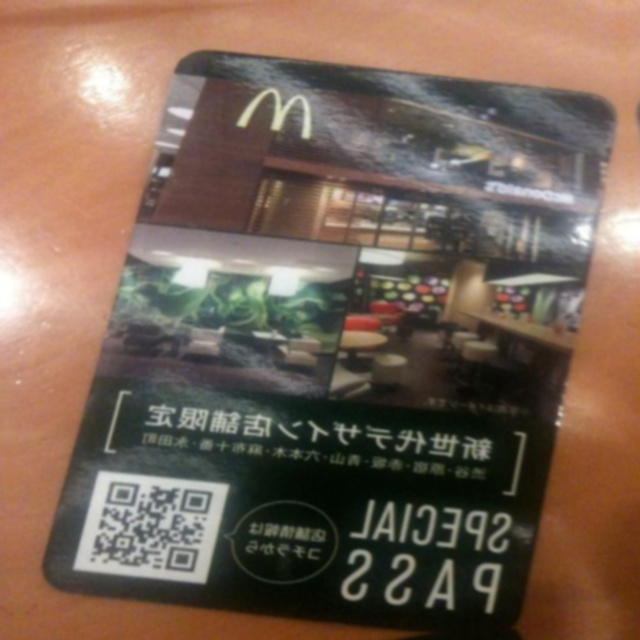qr-code: (84, 473, 219, 580)
